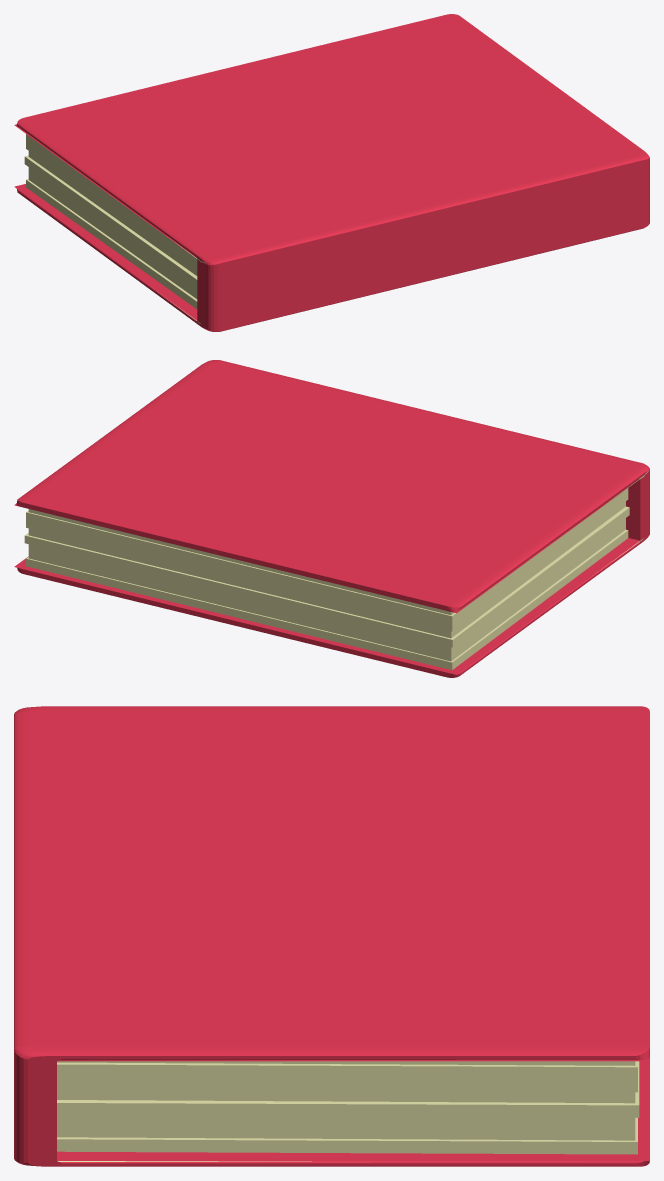
Rendered from SpellBook.fbx.
3 renders of one model, top to bottom at view 1: azimuth 30°, elevation 25°; view 2: azimuth 150°, elevation 25°; view 3: azimuth 270°, elevation 25°, orthographic. The views are drawn at different scales.
Parts seen in each view (by area): view 1: Cube; view 2: Cube; view 3: Cube.
Part boxes in pixels (left/top/right/bottom): Cube: left=14, top=14, right=649, bottom=331; Cube: left=14, top=360, right=649, bottom=677; Cube: left=14, top=706, right=649, bottom=1166.
Bounding box in the file's own units: 130 × 20 × 100.
